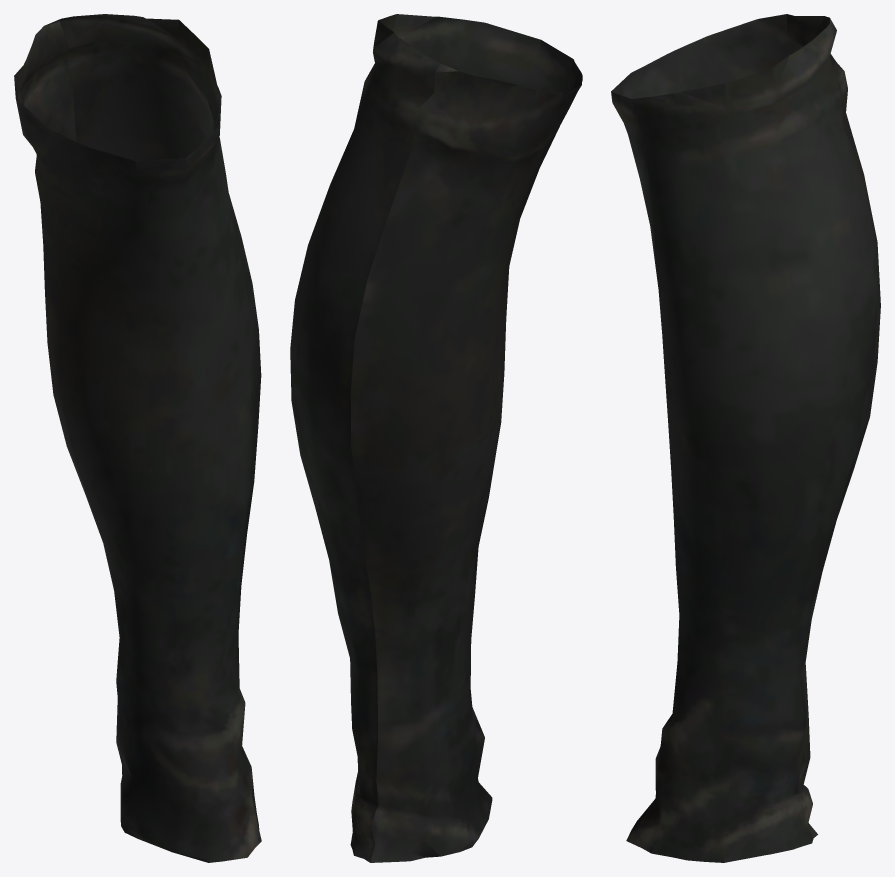
The model's file is leftthight.obj.
3 views of the same model, side by side, from view 1: azimuth 30°, elevation 25°; view 2: azimuth 150°, elevation 25°; view 3: azimuth 270°, elevation 25° (orthographic). The views are drawn at different scales.
Parts seen in each view (by area): view 1: leftthight:Object01 leftthight:polySurface3 leftthight:polySurfa; view 2: leftthight:Object01 leftthight:polySurface3 leftthight:polySurfa; view 3: leftthight:Object01 leftthight:polySurface3 leftthight:polySurfa.
Boxes of the visible parts, box(x1,y1,x2,y2) form: leftthight:Object01 leftthight:polySurface3 leftthight:polySurfa: box(14, 14, 261, 862); leftthight:Object01 leftthight:polySurface3 leftthight:polySurfa: box(290, 14, 582, 862); leftthight:Object01 leftthight:polySurface3 leftthight:polySurfa: box(611, 14, 880, 862).
Bounding box in the file's own units: 2.88 × 9.11 × 2.86.
Materials: 1 (1 with a texture image).
